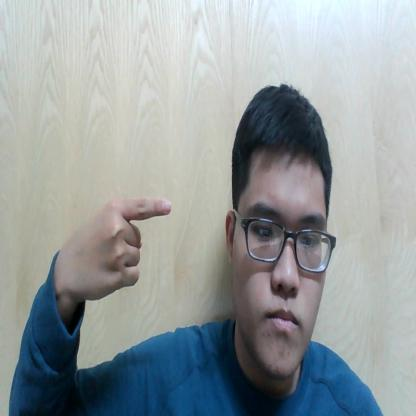left: (58, 193, 174, 304)
